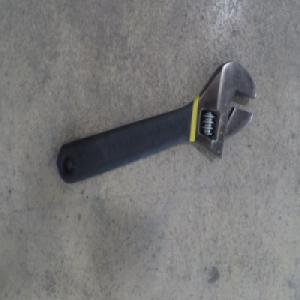AdjustableWrench: (58, 60, 257, 187)
